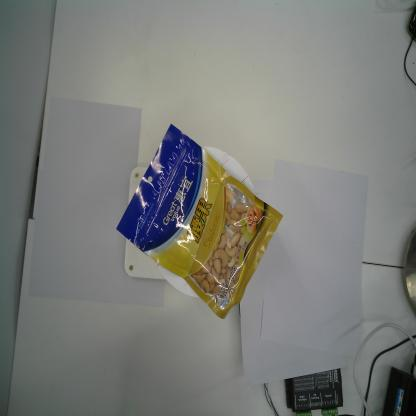Dried Fruit: (115, 123, 285, 321)
